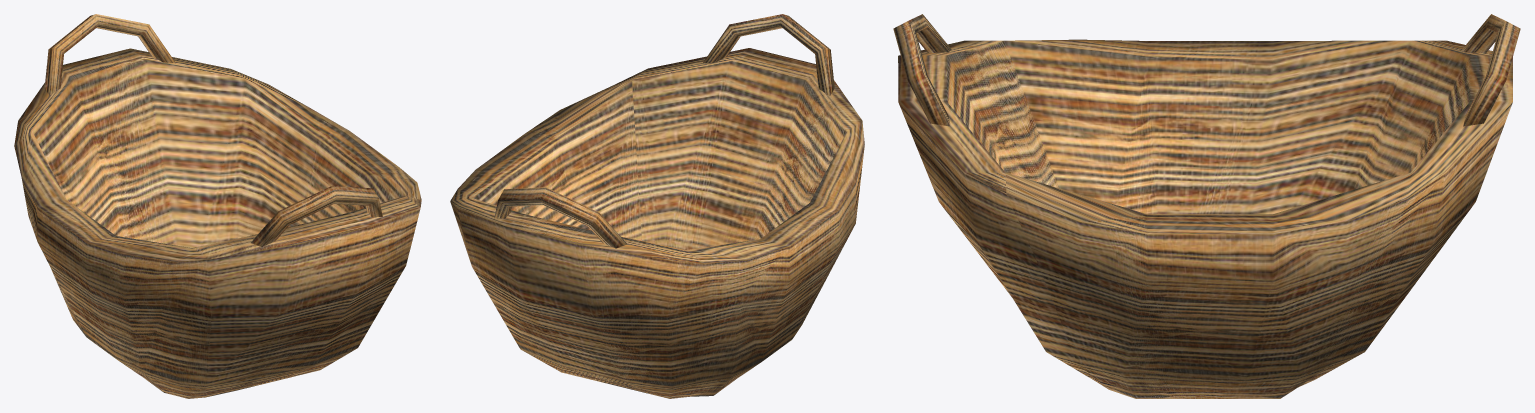
The model's file is M_Home_Garden_FoodBasket_02.fbx.
3 views of the same model, side by side, from view 1: azimuth 30°, elevation 25°; view 2: azimuth 150°, elevation 25°; view 3: azimuth 270°, elevation 25° (orthographic). The views are drawn at different scales.
Parts seen in each view (by area): view 1: M_Home_Garden_FoodBasket_02; view 2: M_Home_Garden_FoodBasket_02; view 3: M_Home_Garden_FoodBasket_02.
Boxes of the visible parts, box(x1,y1,x2,y2) form: M_Home_Garden_FoodBasket_02: box(14, 14, 421, 398); M_Home_Garden_FoodBasket_02: box(450, 14, 864, 398); M_Home_Garden_FoodBasket_02: box(893, 14, 1520, 398).
Size of the model in its own units: 42.23 by 32.78 by 57.92.
